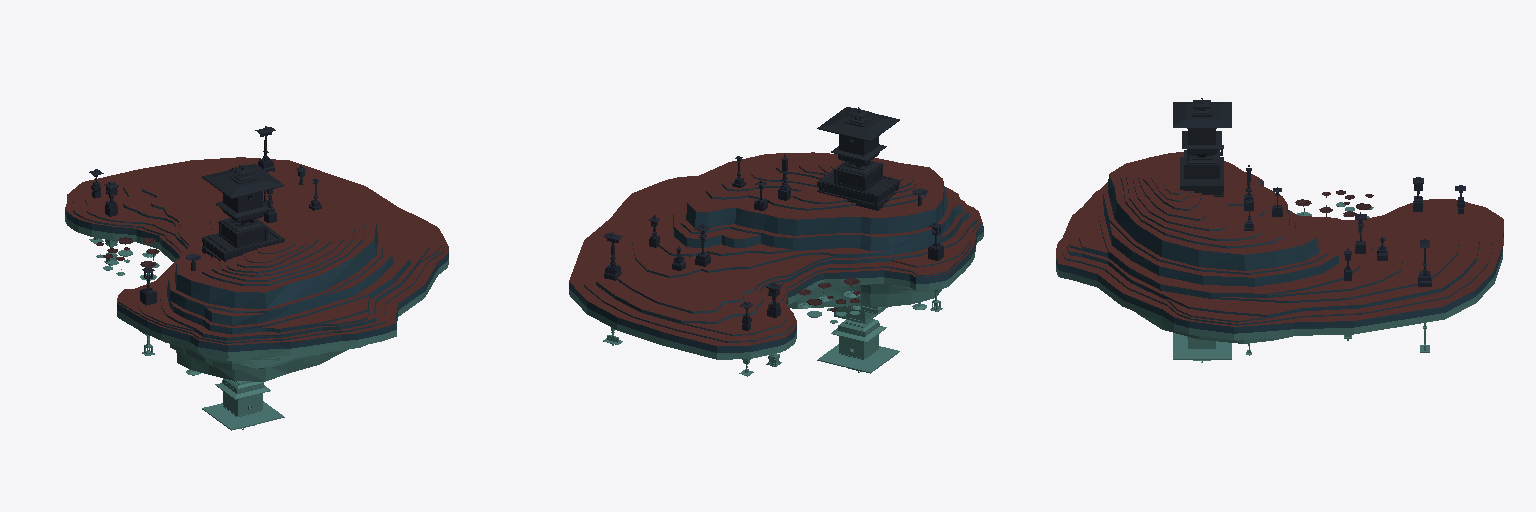
File: JapanIsland.obj
3 views of the same model, side by side, from view 1: azimuth 30°, elevation 25°; view 2: azimuth 150°, elevation 25°; view 3: azimuth 270°, elevation 25° (orthographic).
Visible parts, largest first — view 1: ILE_ETAGES, ILE_STRATS, Reflet, CORPS_TEMPLE, SOCLE_TEMPLE; view 2: ILE_ETAGES, ILE_STRATS, Reflet, CORPS_TEMPLE, SOCLE_TEMPLE; view 3: ILE_ETAGES, ILE_STRATS, Reflet, CORPS_TEMPLE, SOCLE_TEMPLE.
Part boxes in pixels (x1,y1,x2,y2): ILE_ETAGES: (65,157,448,345); ILE_STRATS: (65,187,448,351); Reflet: (65,215,448,430); CORPS_TEMPLE: (202,164,284,224); SOCLE_TEMPLE: (202,218,284,261); ILE_ETAGES: (569,152,982,345); ILE_STRATS: (569,165,983,352); Reflet: (569,232,983,376); CORPS_TEMPLE: (817,107,899,167); SOCLE_TEMPLE: (817,161,899,210); ILE_ETAGES: (1056,152,1503,326); ILE_STRATS: (1056,175,1503,333); Reflet: (1056,202,1503,362); CORPS_TEMPLE: (1173,98,1231,157); SOCLE_TEMPLE: (1180,150,1223,196).
Bounding box in the file's own units: 56 × 44.46 × 68.28.